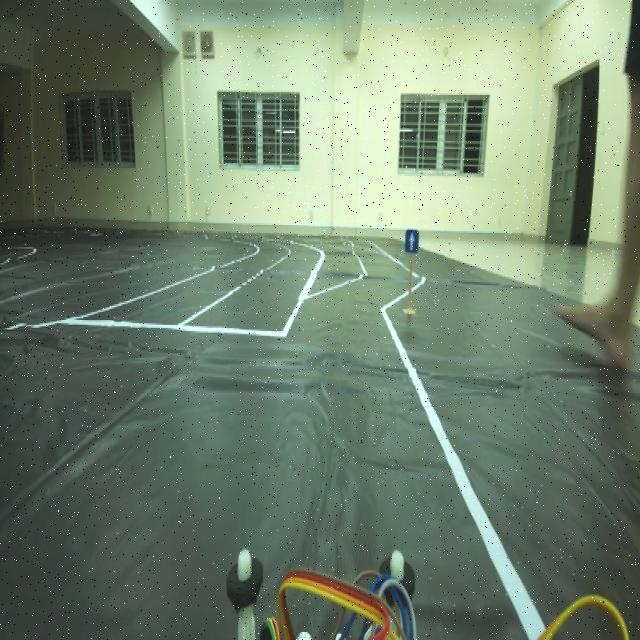onewayroad: (404, 223, 422, 260)
